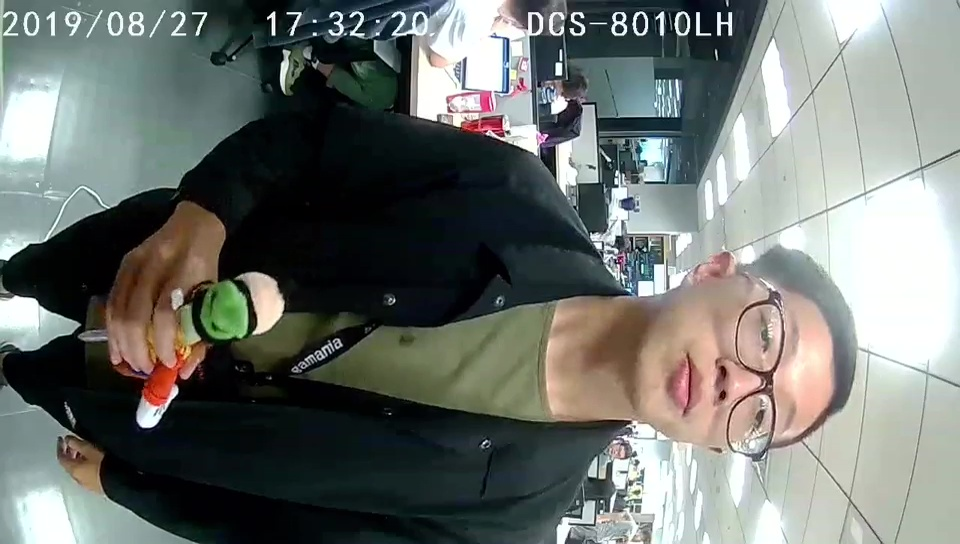goofy: (114, 271, 285, 428)
